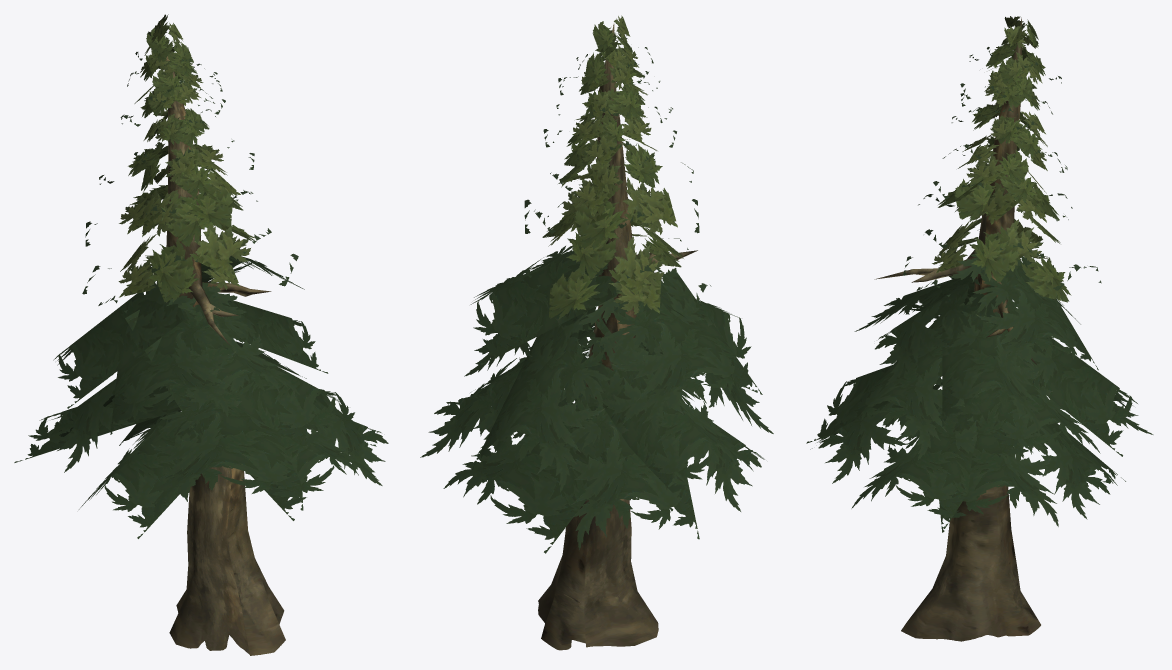
File: tree_pine_01.fbx
3 renders of one model, left to right at view 1: azimuth 30°, elevation 25°; view 2: azimuth 150°, elevation 25°; view 3: azimuth 270°, elevation 25°, orthographic. The views are drawn at different scales.
Parts seen in each view (by area): view 1: tree_pine_01; view 2: tree_pine_01; view 3: tree_pine_01.
Part boxes in pixels (<box>): tree_pine_01: <box>14,14,388,655</box>; tree_pine_01: <box>420,15,773,650</box>; tree_pine_01: <box>806,16,1153,641</box>.
Bounding box in the file's own units: 16806 × 32177 × 17254.
